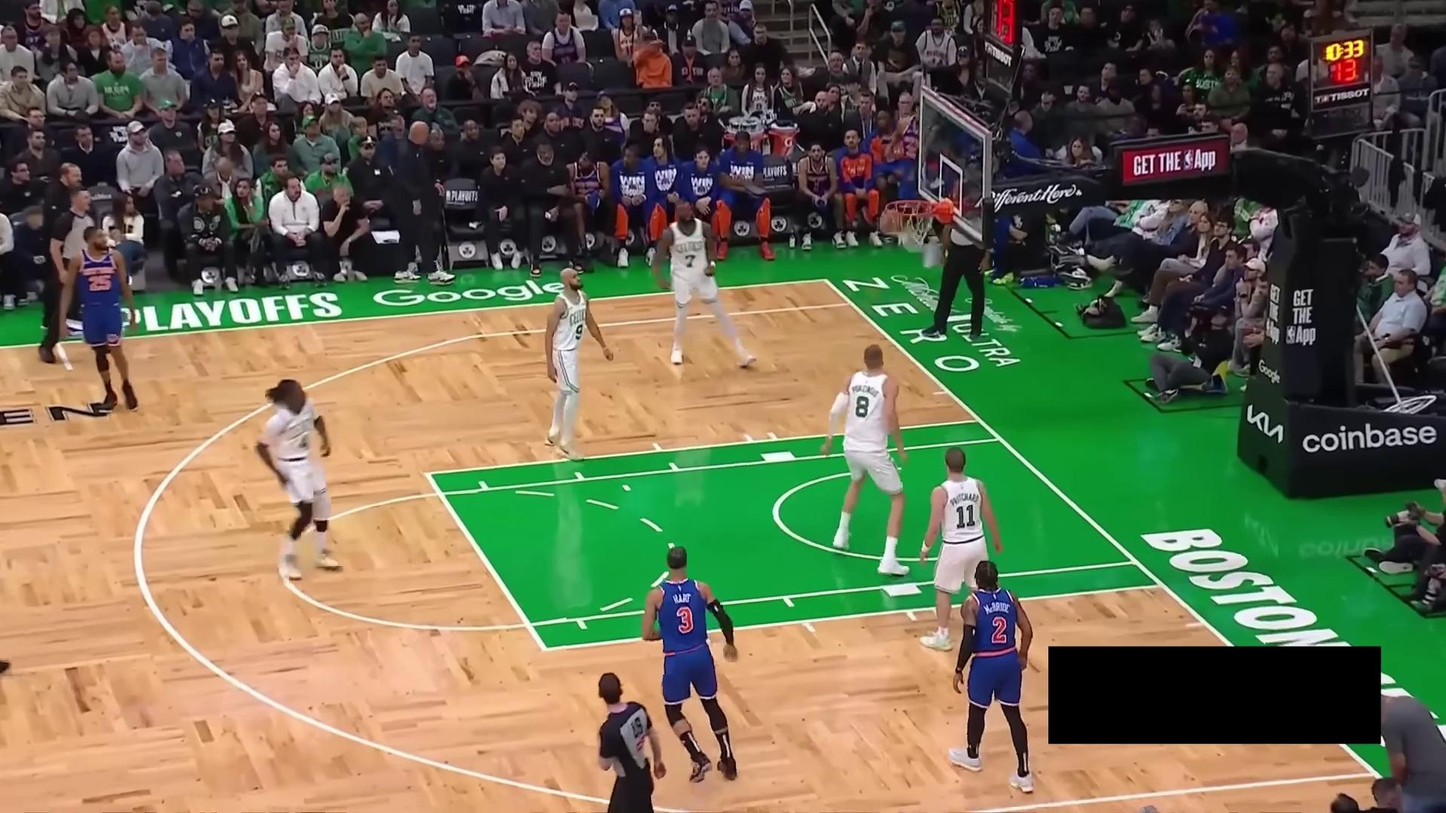ball: (878, 209, 905, 235)
ball-in-basket: (879, 199, 931, 252)
number: (674, 605, 694, 633), (954, 503, 974, 529), (991, 615, 1008, 642), (855, 395, 872, 419), (89, 274, 111, 291), (297, 431, 310, 449), (684, 252, 696, 268), (574, 323, 584, 341)
player: (642, 544, 740, 782), (948, 559, 1039, 795), (821, 343, 909, 578), (254, 378, 344, 580), (653, 198, 758, 370), (925, 446, 1001, 653), (62, 221, 140, 414), (543, 264, 610, 460)
referee: (35, 184, 103, 365), (925, 181, 991, 340), (595, 671, 666, 813)
rim: (878, 200, 930, 222)
